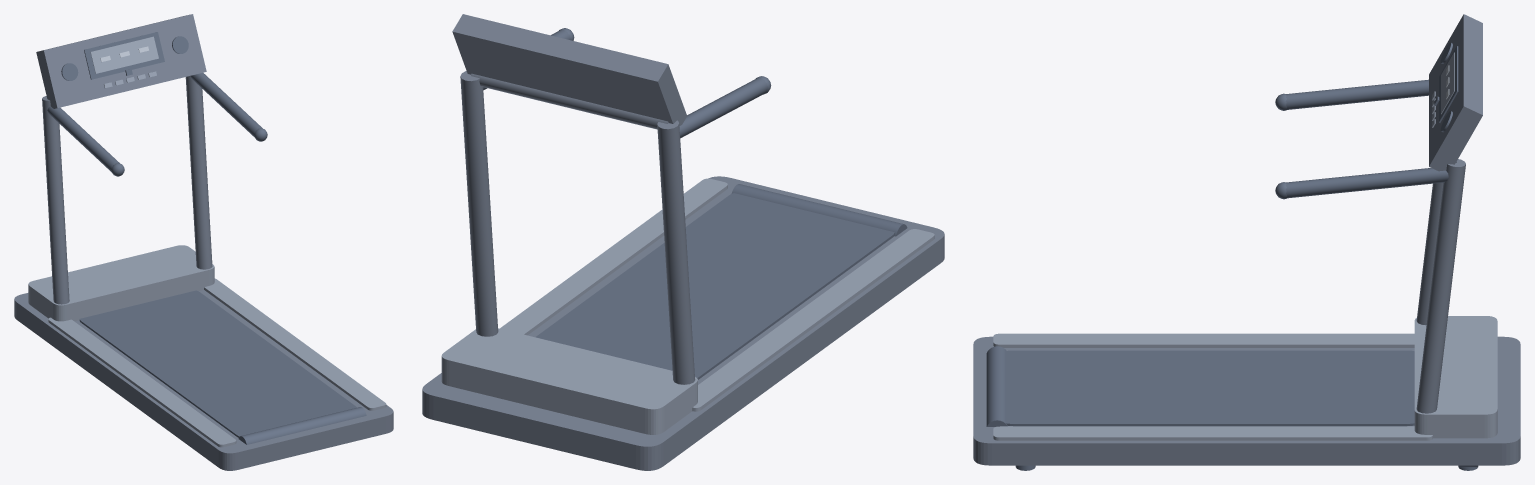
Rendered from treadmill-lite.glb.
The picture shows the model from 3 angles, left to right: view 1: azimuth 30°, elevation 25°; view 2: azimuth 150°, elevation 25°; view 3: azimuth 270°, elevation 25°; orthographic projection. The views are drawn at different scales.
Parts seen in each view (by area): view 1: treadmill-dark, treadmill-frame, treadmill-accent, treadmill-soft; view 2: treadmill-frame, treadmill-dark, treadmill-accent; view 3: treadmill-dark, treadmill-frame, treadmill-accent.
Part boxes in pixels (box(x1,y1,x2,y2)): treadmill-dark: box(47, 32, 366, 444); treadmill-frame: box(14, 14, 393, 470); treadmill-accent: box(28, 71, 386, 447); treadmill-soft: box(90, 36, 158, 73); treadmill-frame: box(422, 14, 944, 470); treadmill-dark: box(483, 28, 907, 379); treadmill-accent: box(441, 178, 934, 434); treadmill-dark: box(986, 42, 1478, 470); treadmill-frame: box(973, 14, 1520, 465); treadmill-accent: box(993, 91, 1497, 440).
Bounding box in the file's own units: 0.82 × 1.31 × 1.78.
